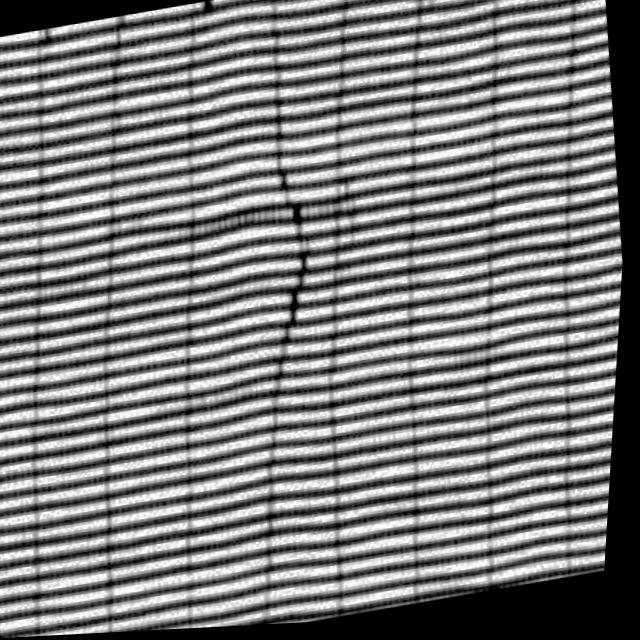Stitch: (227, 137, 364, 410)
